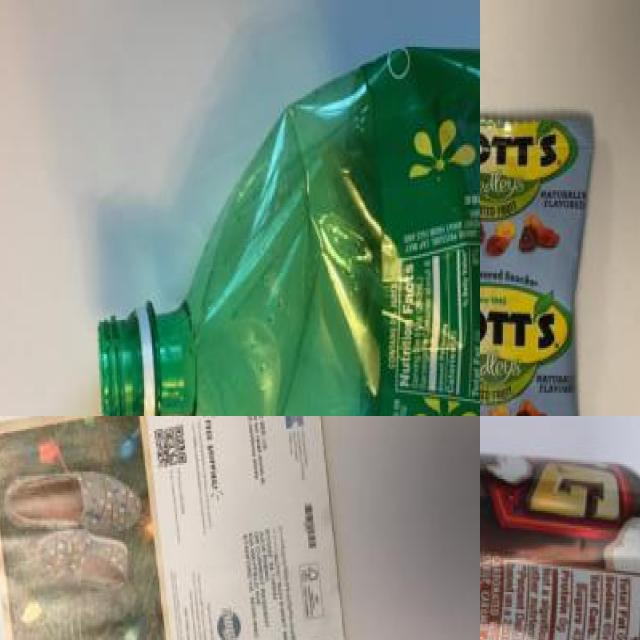paper: (0, 416, 354, 640)
plastic: (109, 22, 480, 416), (480, 417, 640, 640)
trash: (480, 74, 621, 416)
